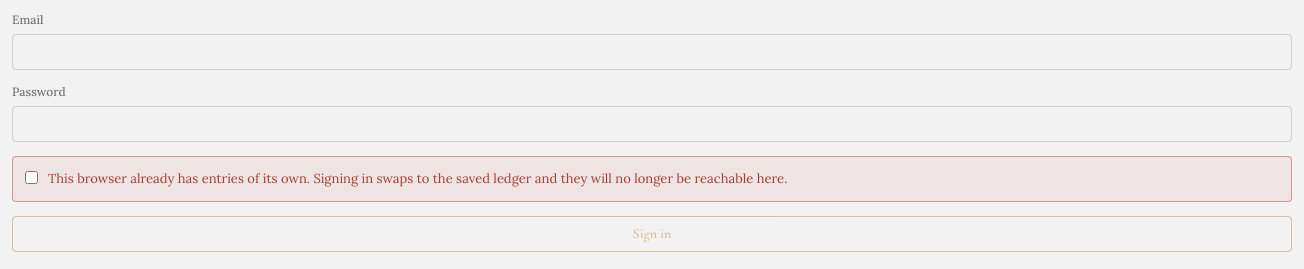
it: SignInForm on a browser that already holds entries › blocks it again if the box is unticked
The width and height of the screenshot is (1304, 269).
Click the checkbox. click: (32, 178)
box: [25,171,38,184]
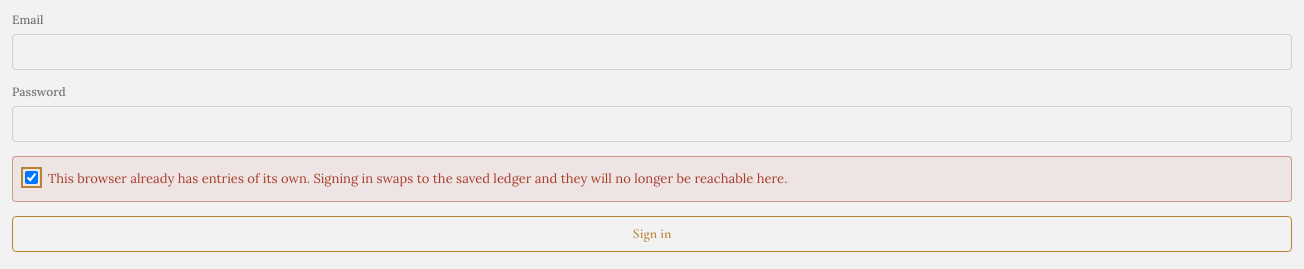
Click the checkbox. click: (32, 178)
box: [25,171,38,184]
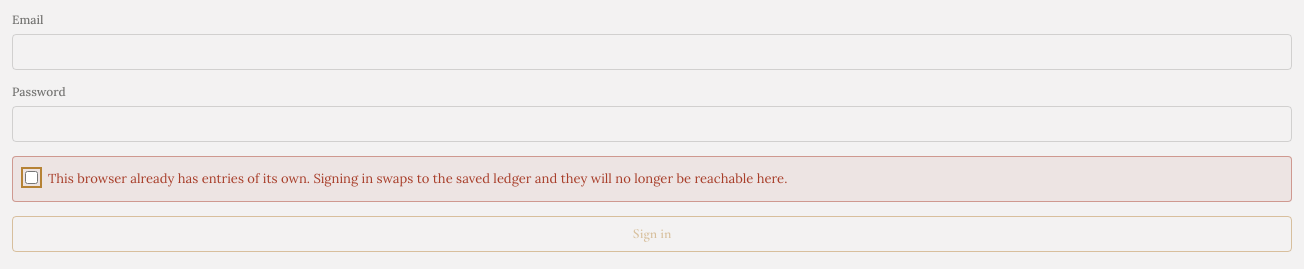
Check: the button "Sign in" is disabled, box [12,216,1292,252]
